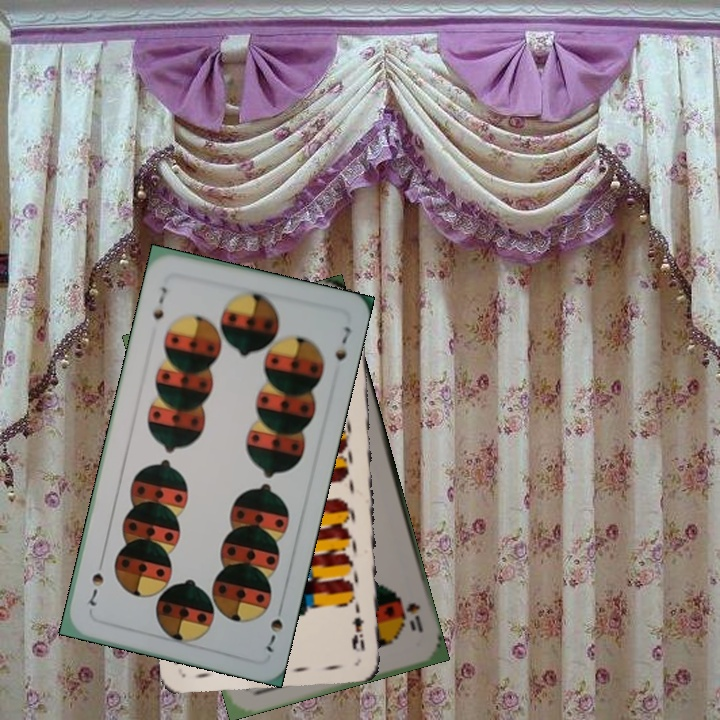E9: (347, 598, 368, 655)
S7: (262, 599, 286, 654), (148, 282, 170, 322)
SO: (395, 592, 426, 635)
